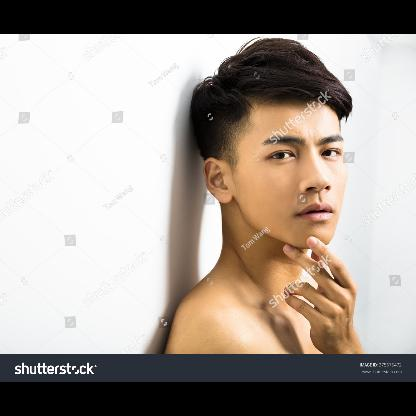Male: (206, 97, 348, 245)
